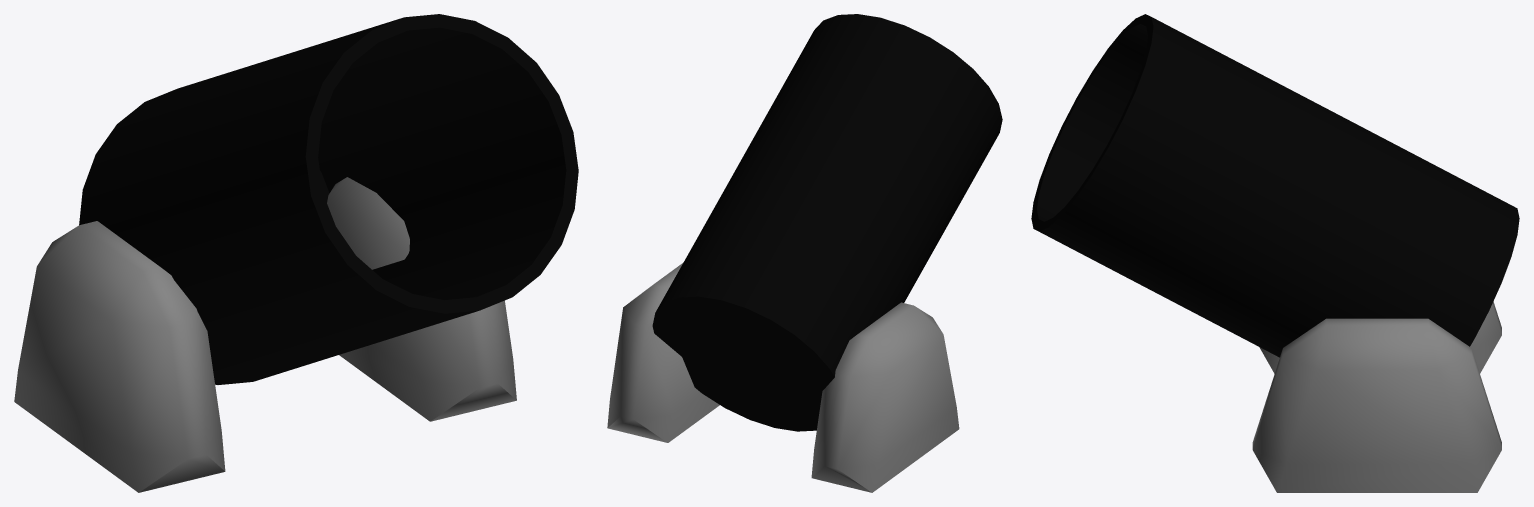
The model's file is cannon.fbx.
The picture shows the model from 3 angles, left to right: view 1: azimuth 30°, elevation 25°; view 2: azimuth 150°, elevation 25°; view 3: azimuth 270°, elevation 25°; orthographic projection. The views are drawn at different scales.
Visible parts, largest first — view 1: obj1, obj2, obj3; view 2: obj1, obj2, obj3; view 3: obj1, obj3, obj2.
Part boxes in pixels (left/top/right/bottom): obj1: left=79, top=14, right=578, bottom=384; obj2: left=14, top=221, right=225, bottom=492; obj3: left=327, top=177, right=516, bottom=421; obj1: left=652, top=14, right=1002, bottom=431; obj2: left=811, top=302, right=959, bottom=492; obj3: left=607, top=262, right=719, bottom=442; obj1: left=1031, top=14, right=1519, bottom=357; obj3: left=1252, top=318, right=1501, bottom=492; obj2: left=1259, top=301, right=1501, bottom=373.
Size of the model in its own units: 105 by 127 by 144.
